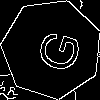G: (26, 24, 83, 76)
